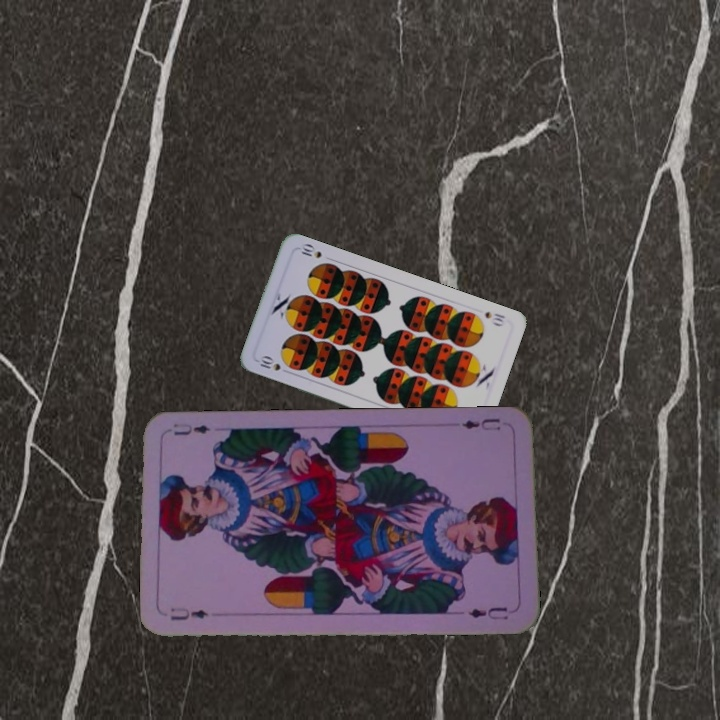EU: (458, 414, 503, 433), (167, 604, 211, 623)
S10: (254, 352, 293, 376), (481, 307, 508, 329)
